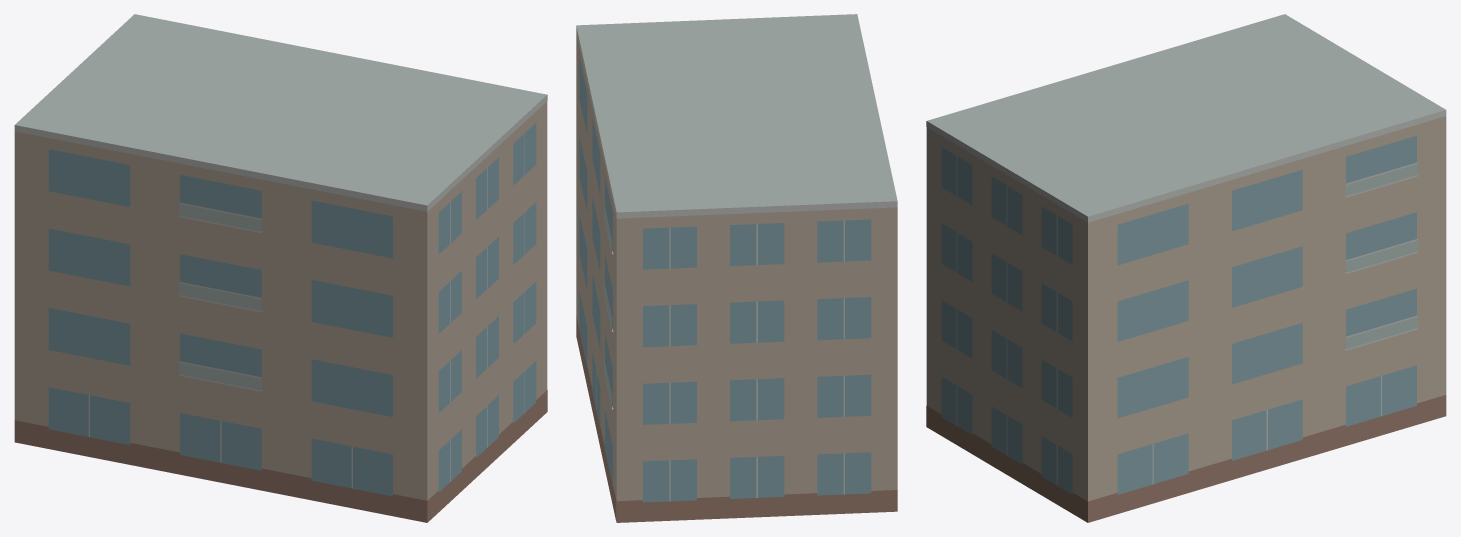
Rendered from survey-upis-32591605.glb.
3 renders of one model, left to right at view 1: azimuth 30°, elevation 25°; view 2: azimuth 150°, elevation 25°; view 3: azimuth 270°, elevation 25°, orthographic. The views are drawn at different scales.
Parts seen in each view (by area): view 1: survey-upis-32591605.tmp; view 2: survey-upis-32591605.tmp; view 3: survey-upis-32591605.tmp.
Boxes of the visible parts, box(x1,y1,x2,y2) form: survey-upis-32591605.tmp: box(14, 14, 547, 522); survey-upis-32591605.tmp: box(576, 14, 897, 522); survey-upis-32591605.tmp: box(926, 14, 1446, 522).
Size of the model in its own units: 17.33 by 12.2 by 18.78.
